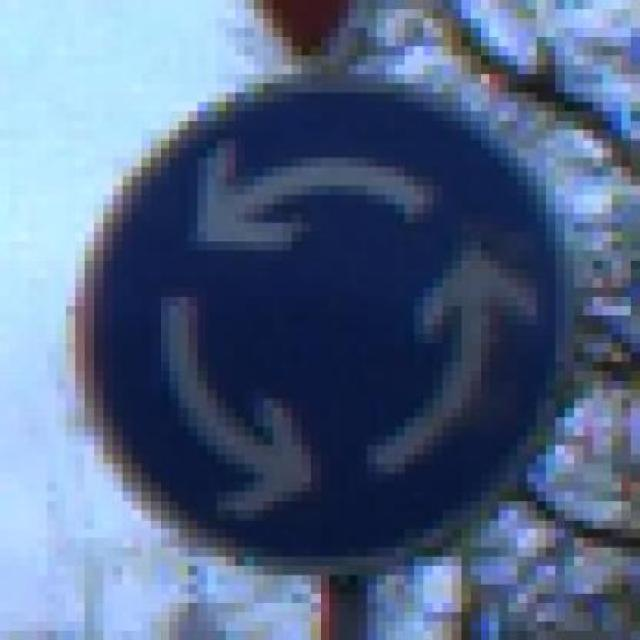Round-About: (47, 64, 584, 576)
